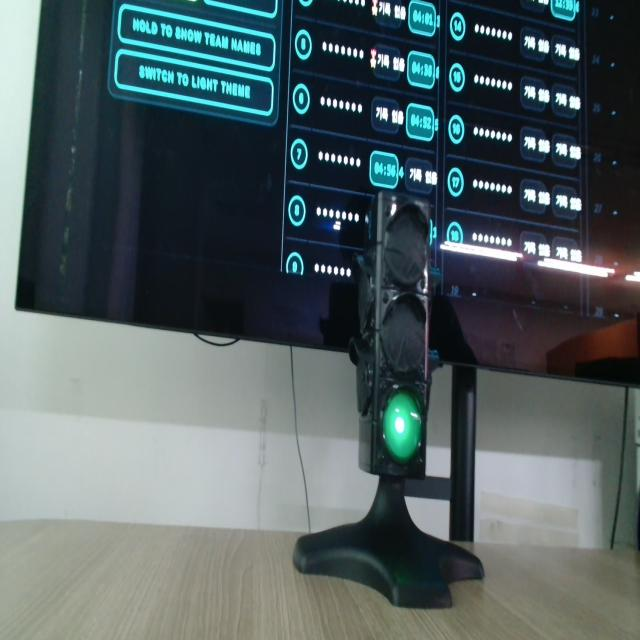green_light: (383, 392, 421, 463)
